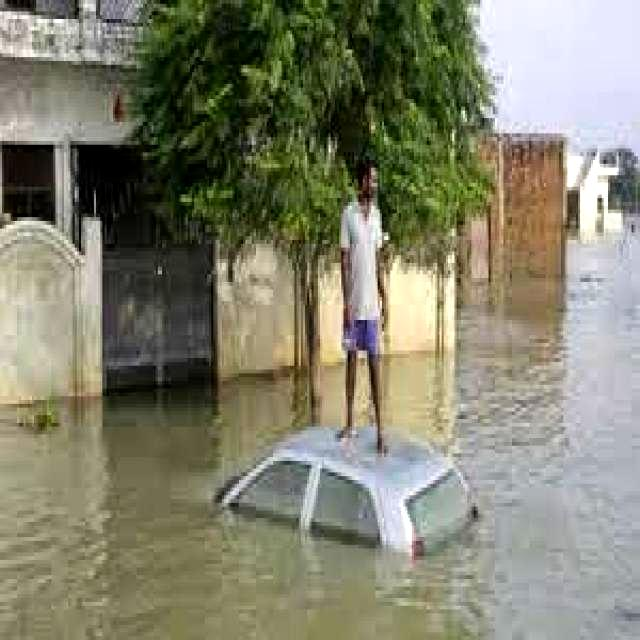civilian: (332, 152, 403, 454)
